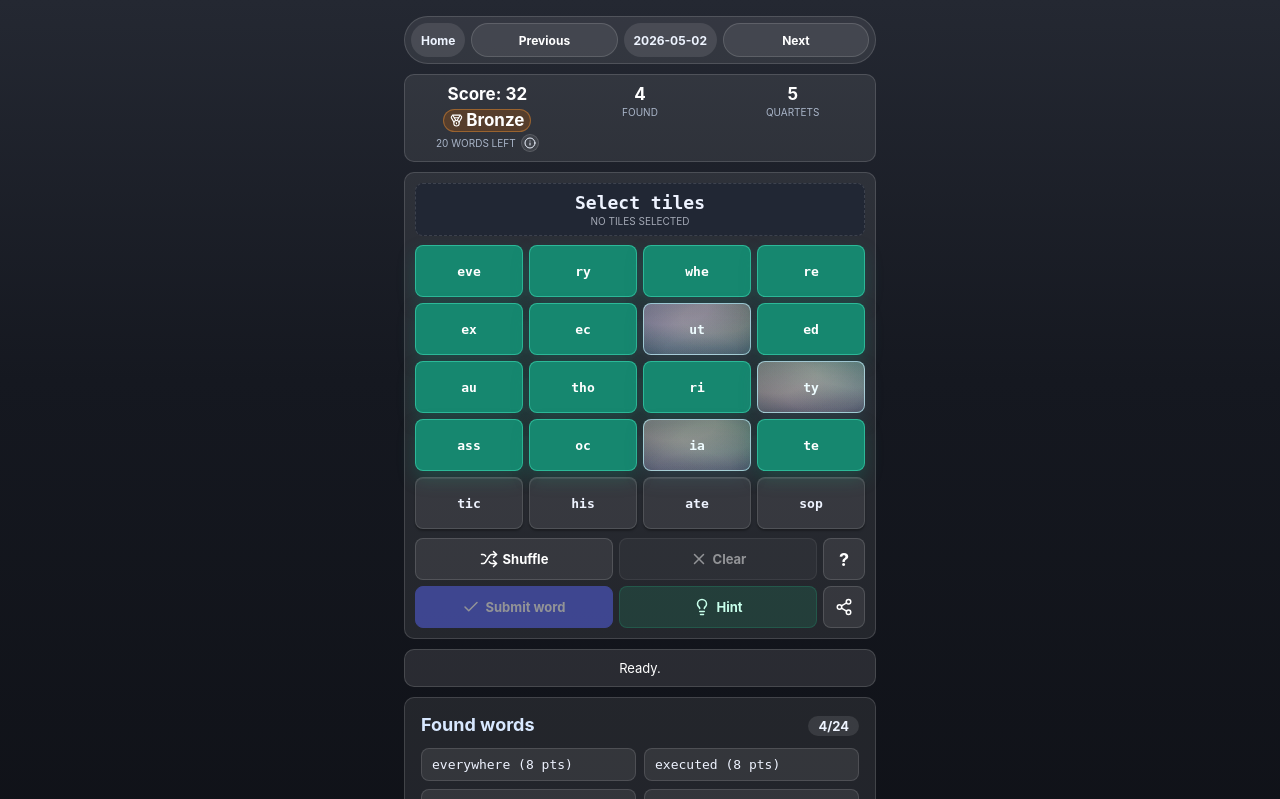
Test: lexitiles app › celebrates exactly when the final quartet is found
Expected: the text "all 5 quartets" is not shown
What coordinates should you click on to do the following:
click the button "sop"
I would click on:
 (811, 503)
Its box is [757,477,865,529].
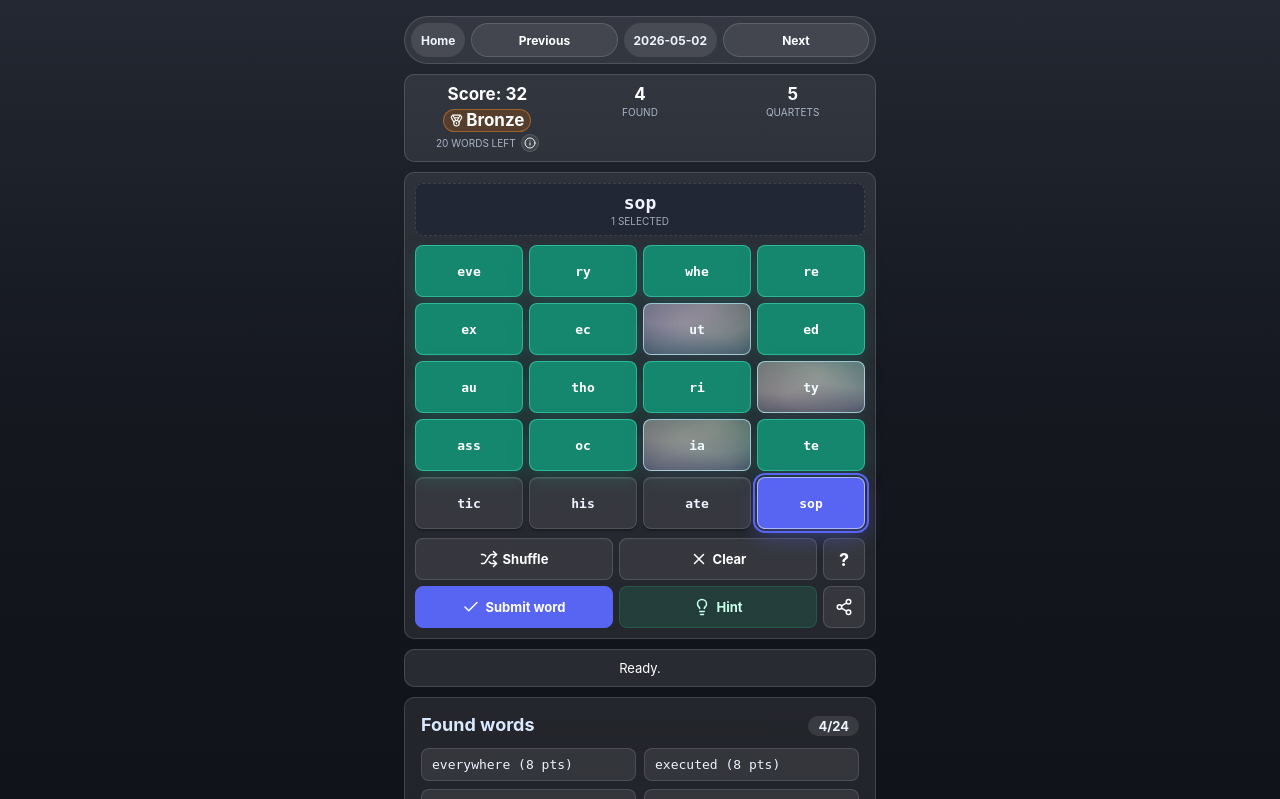
What coordinates should you click on to do the following:
click the button "his"
I would click on:
 (583, 503)
Its box is [529,477,637,529].
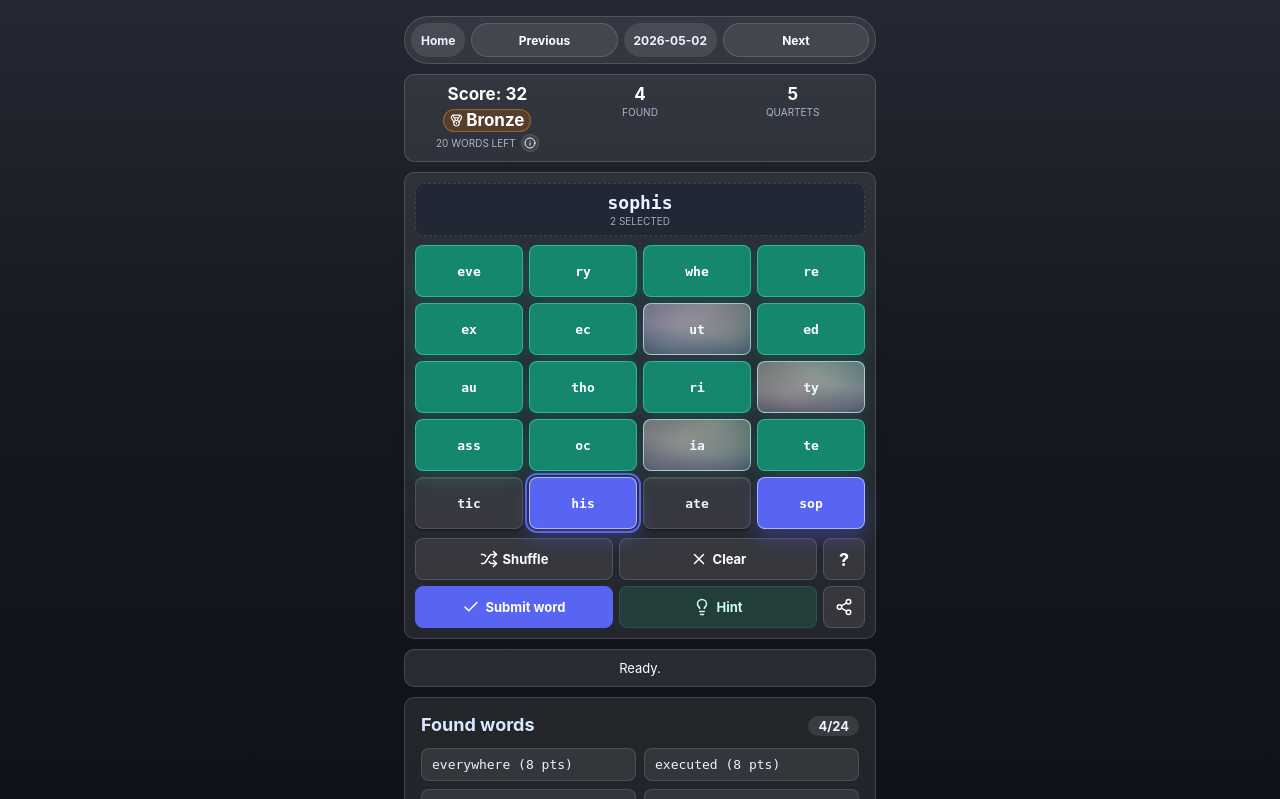
What coordinates should you click on to do the following:
click the button "tic"
I would click on:
 (469, 503)
Its box is [415,477,523,529].
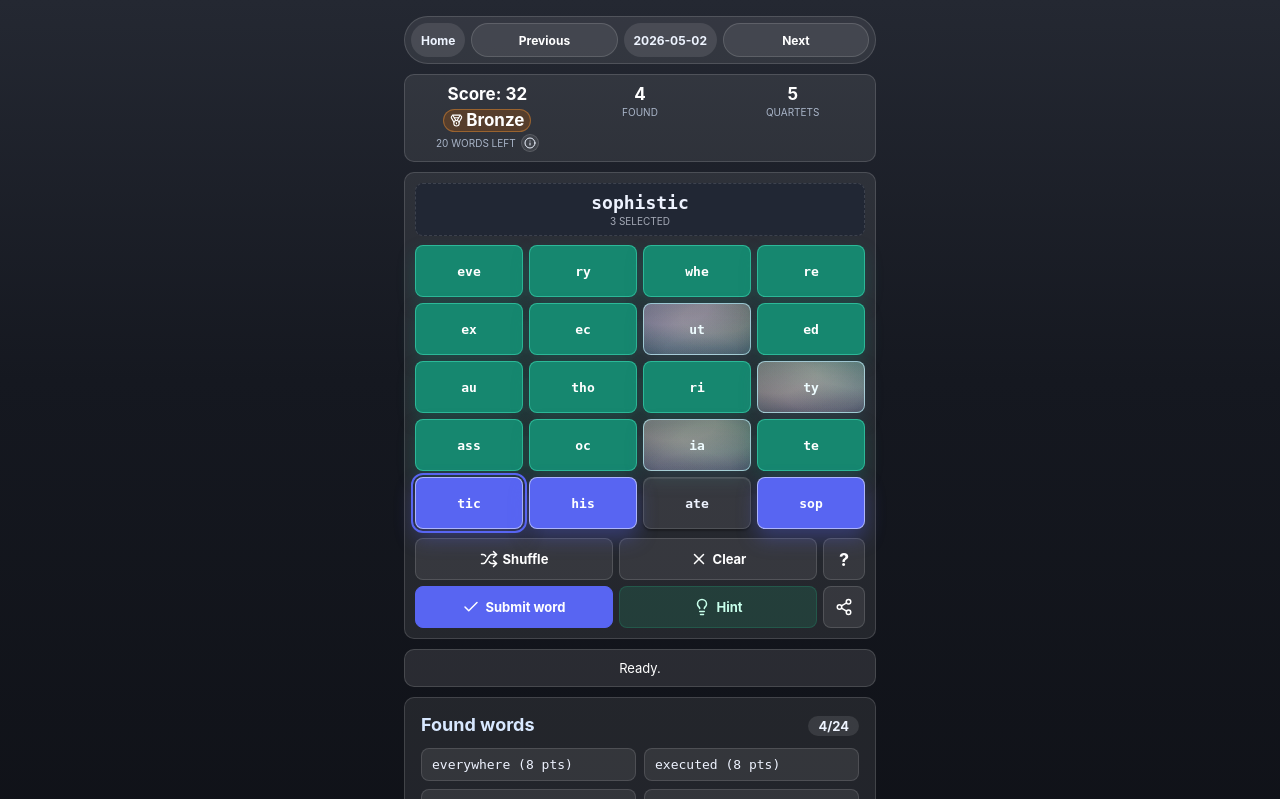
What coordinates should you click on to do the following:
click the button "ate"
I would click on:
 (697, 503)
Its box is [643,477,751,529].
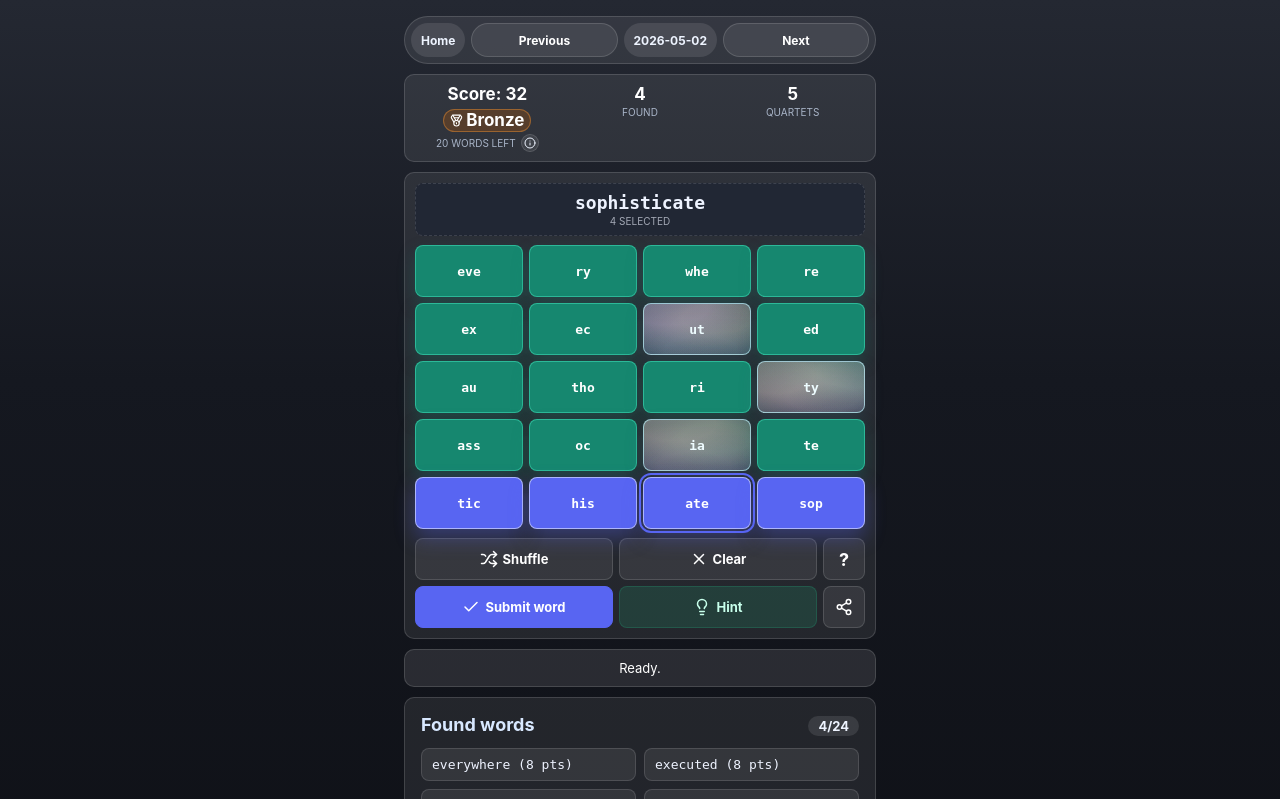
What coordinates should you click on to do the following:
click the button "Submit word"
I would click on:
 (514, 607)
Its box is [415,586,613,628].
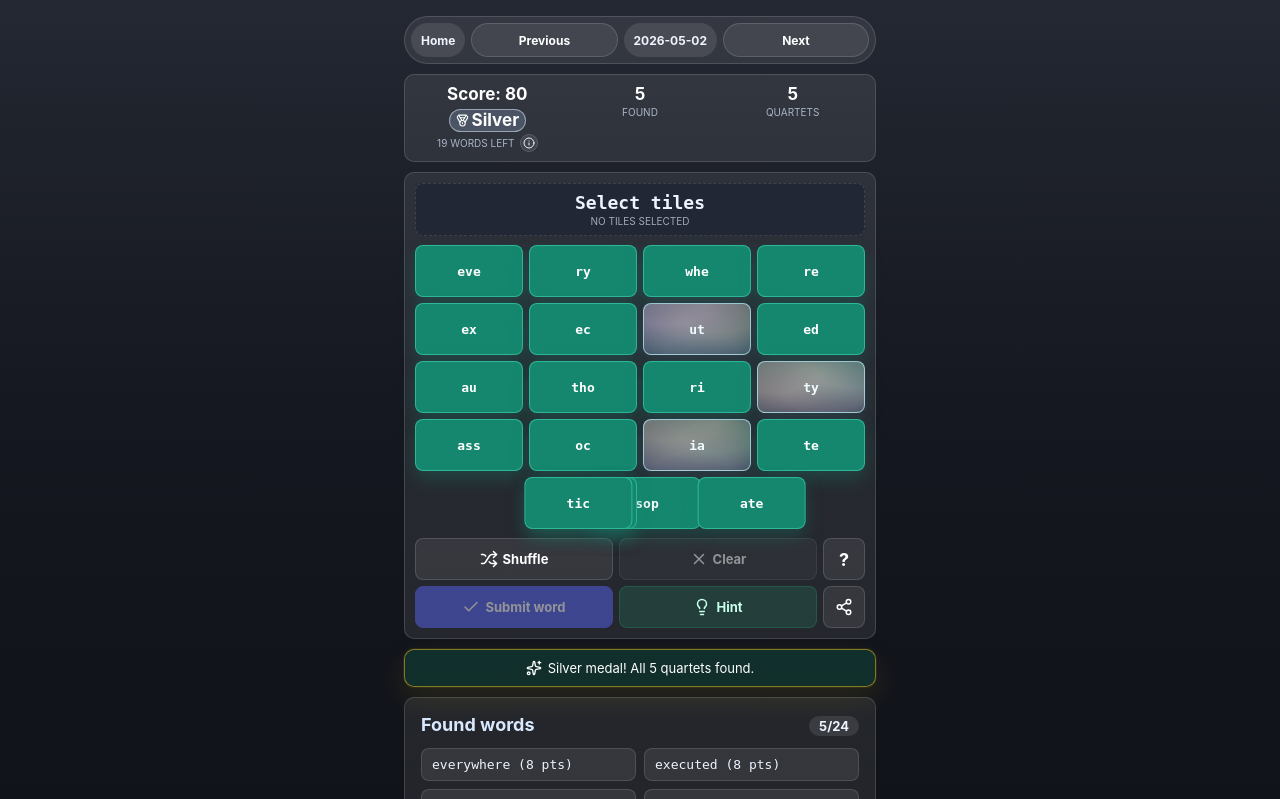
Expected: the message shows "Silver medal", [548,660,754,676]
Expected: the message shows "All 5 quartets", [548,660,754,676]
